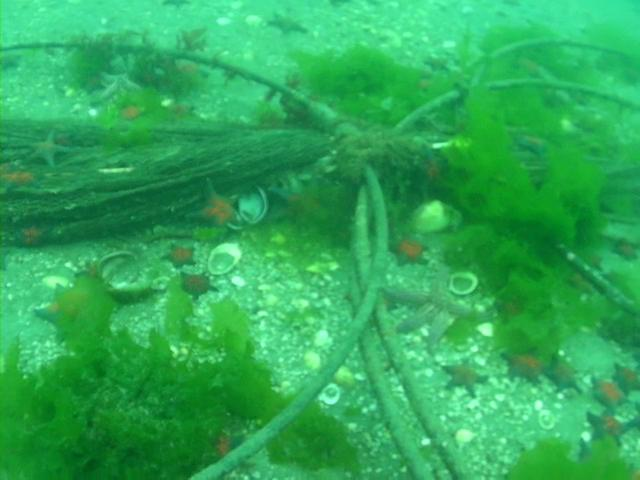bundle of ropes: (1, 36, 640, 480)
